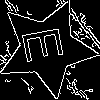E: (21, 23, 73, 65)
